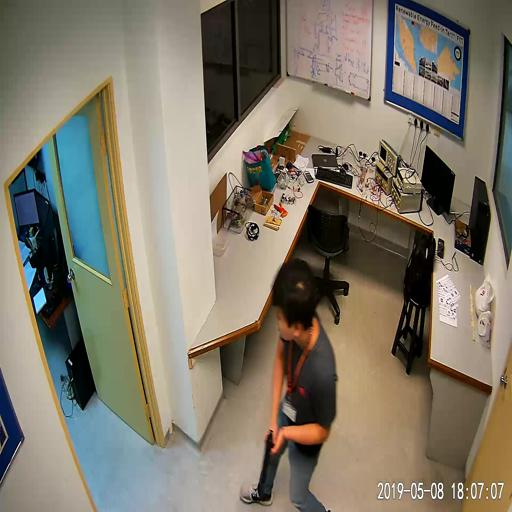pistol: (261, 429, 274, 486)
